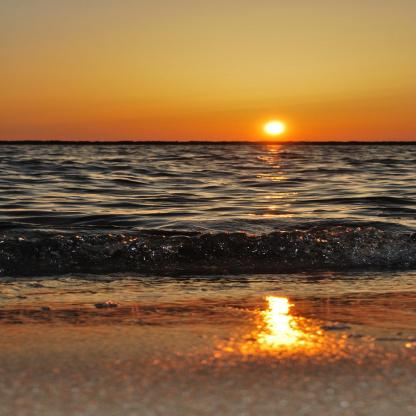other: (228, 290, 342, 360), (248, 118, 305, 141)
